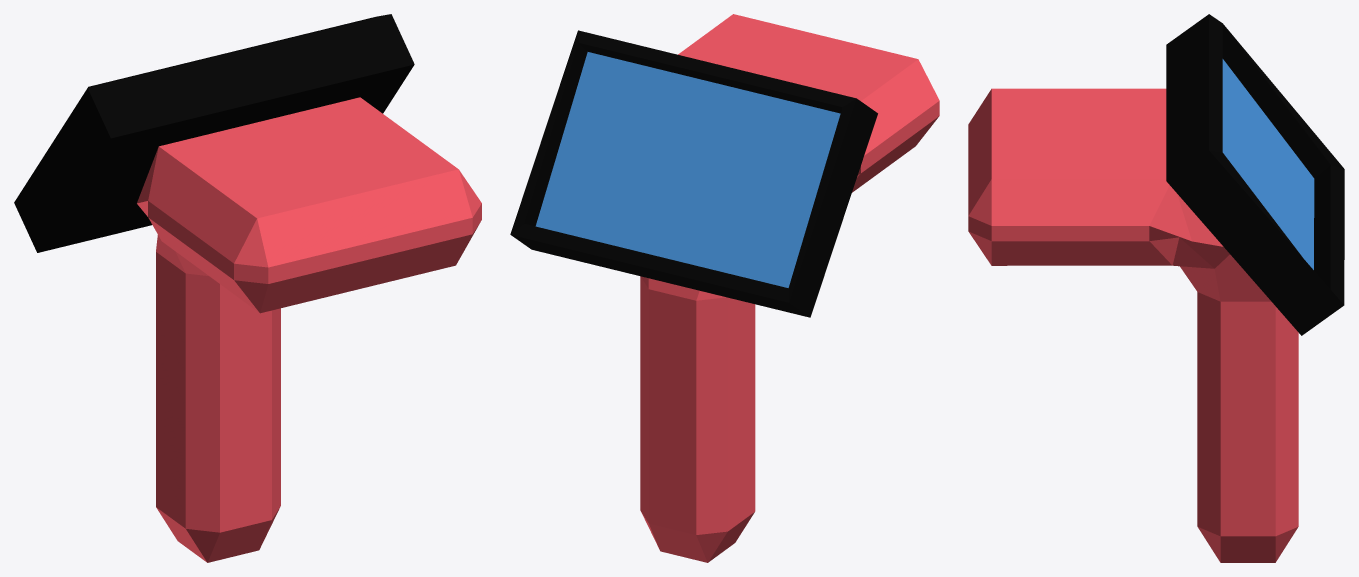
Rendered from tool.fbx.
3 renders of one model, left to right at view 1: azimuth 30°, elevation 25°; view 2: azimuth 150°, elevation 25°; view 3: azimuth 270°, elevation 25°, orthographic. The views are drawn at different scales.
Visible parts, largest first — view 1: Tool; view 2: Tool; view 3: Tool.
Boxes of the visible parts, x1,y1,x2,y2 form: Tool: (14, 14, 481, 562); Tool: (510, 14, 939, 562); Tool: (968, 14, 1344, 562).
Size of the model in its own units: 34.18 by 54.86 by 39.87.
